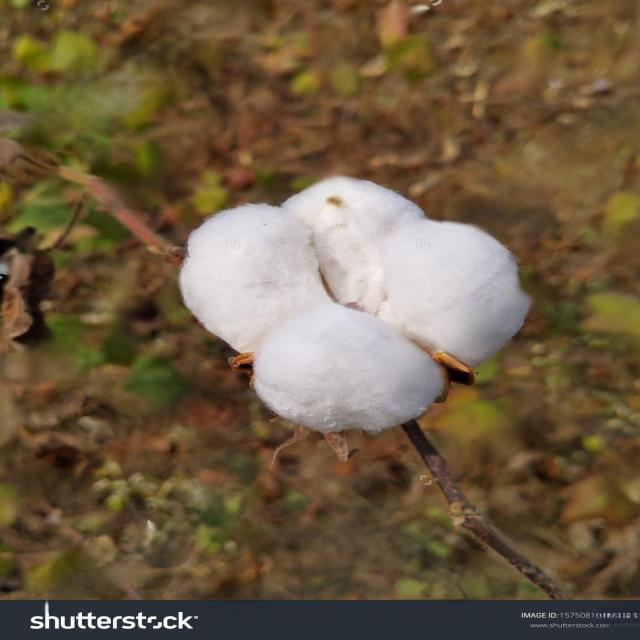Late_blight: (165, 159, 549, 443)
